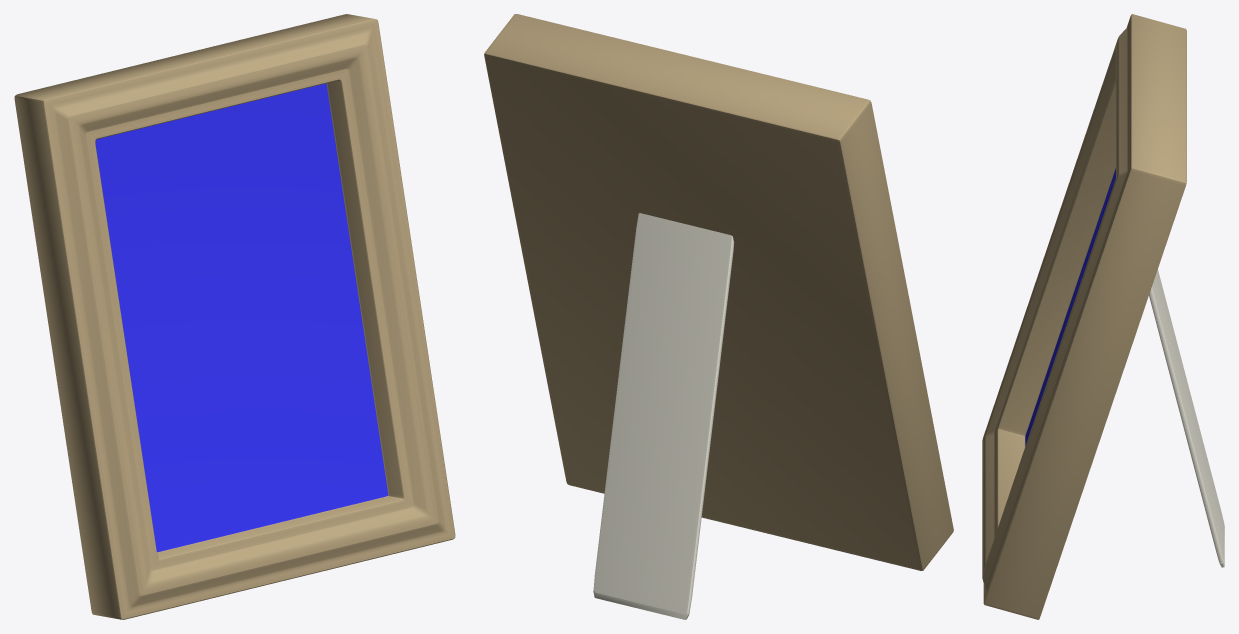
File: PhotoFrame.fbx
3 renders of one model, left to right at view 1: azimuth 30°, elevation 25°; view 2: azimuth 150°, elevation 25°; view 3: azimuth 270°, elevation 25°, orthographic. The views are drawn at different scales.
Visible parts, largest first — view 1: Box001; view 2: Box001, Box002; view 3: Box001, Box002.
Boxes of the visible parts, <box> form: Box001: <box>14,14,455,619</box>; Box001: <box>484,14,953,570</box>; Box002: <box>593,213,734,619</box>; Box001: <box>982,14,1186,619</box>; Box002: <box>1149,269,1224,567</box>.
Size of the model in its own units: 60.38 by 83.14 by 39.93.
